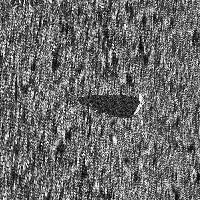mine: (76, 92, 147, 119)
